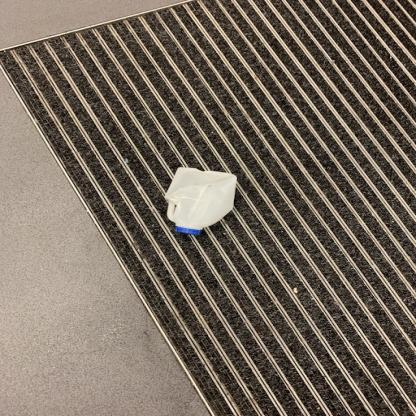trash: (164, 167, 236, 237)
